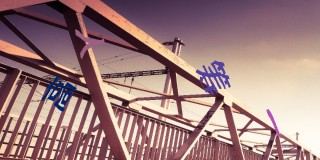一: (264, 107, 282, 135)
人: (74, 27, 105, 59)
筹: (196, 56, 230, 96)
高: (41, 76, 75, 111)
